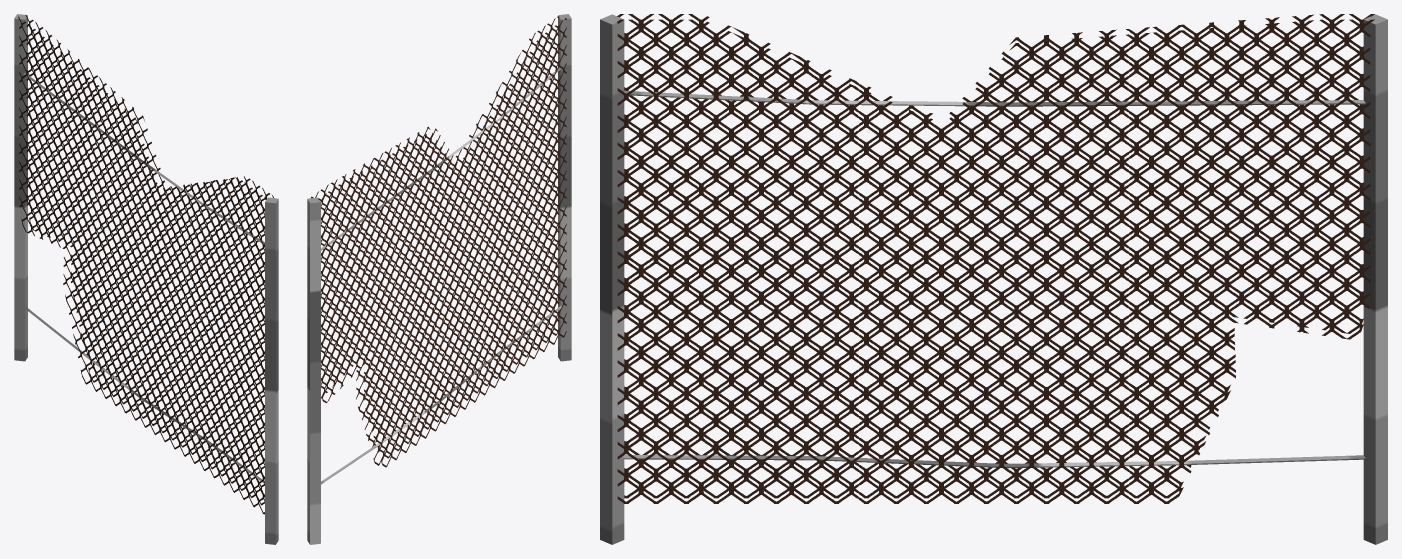
The model's file is bz_fence_wire_02.fbx.
3 renders of one model, left to right at view 1: azimuth 30°, elevation 25°; view 2: azimuth 150°, elevation 25°; view 3: azimuth 270°, elevation 25°, orthographic. The views are drawn at different scales.
Parts seen in each view (by area): view 1: bz_fence_wire_02, bz_fence_frame_02; view 2: bz_fence_wire_02, bz_fence_frame_02; view 3: bz_fence_wire_02, bz_fence_frame_02.
Part boxes in pixels (x1,y1,x2,y2): bz_fence_wire_02: (18, 14, 273, 514); bz_fence_frame_02: (14, 14, 278, 544); bz_fence_wire_02: (311, 16, 566, 467); bz_fence_frame_02: (307, 14, 571, 544); bz_fence_wire_02: (617, 14, 1374, 503); bz_fence_frame_02: (600, 14, 1387, 544).
Size of the model in its own units: 0.08 by 1.89 by 2.58.
